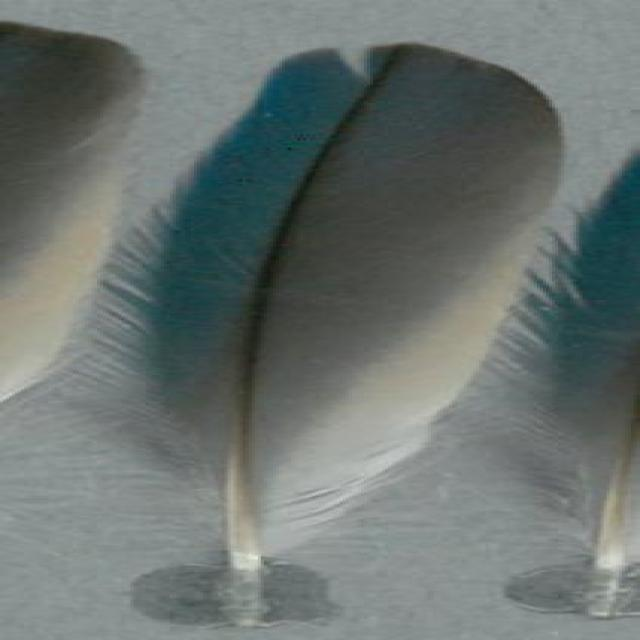feather: (49, 40, 584, 624), (432, 129, 640, 618)
